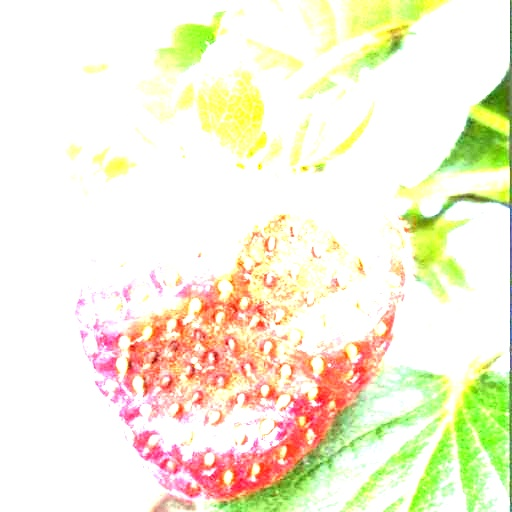Anthracnose Fruit Rot: (102, 202, 394, 458)
